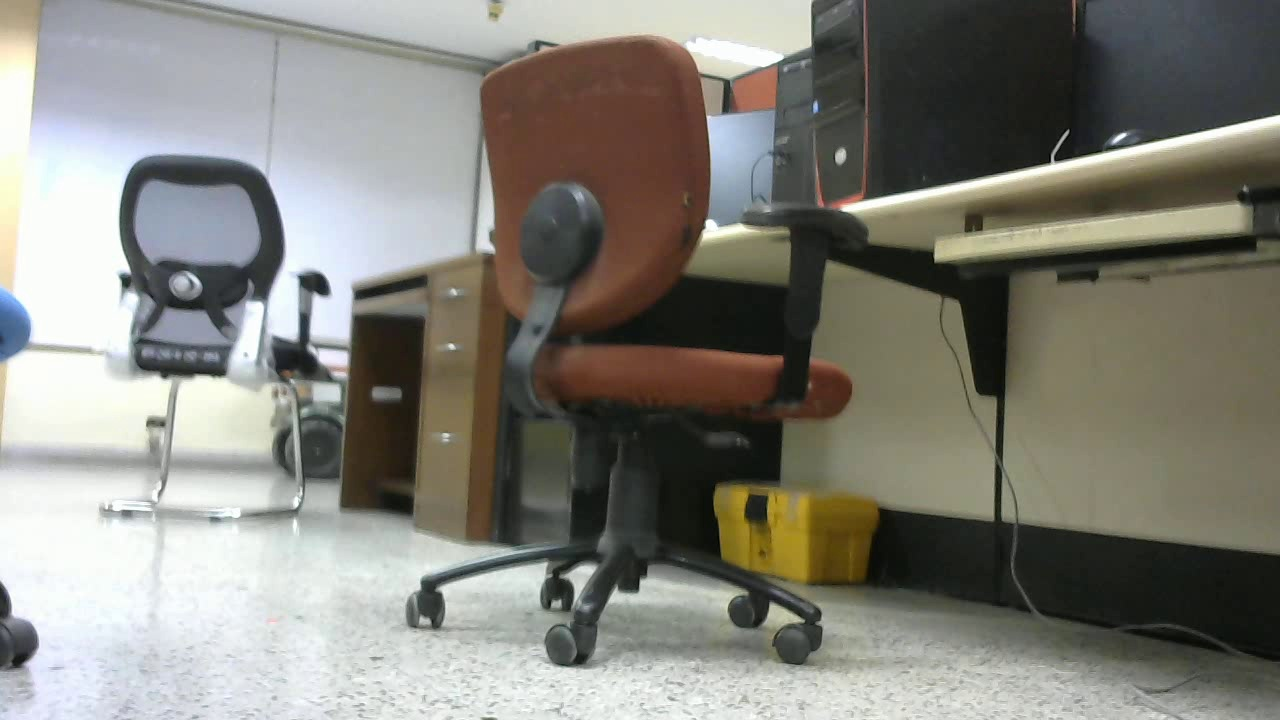chair: (393, 30, 840, 682), (86, 147, 341, 526)
